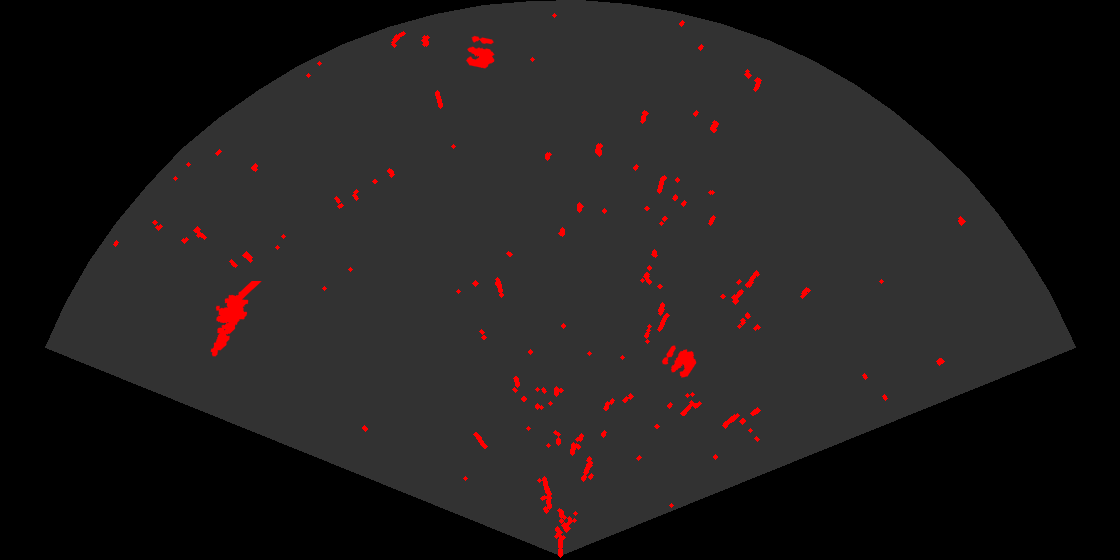ball: (660, 344, 698, 379), (464, 34, 496, 70)
frogman: (209, 281, 263, 358)
